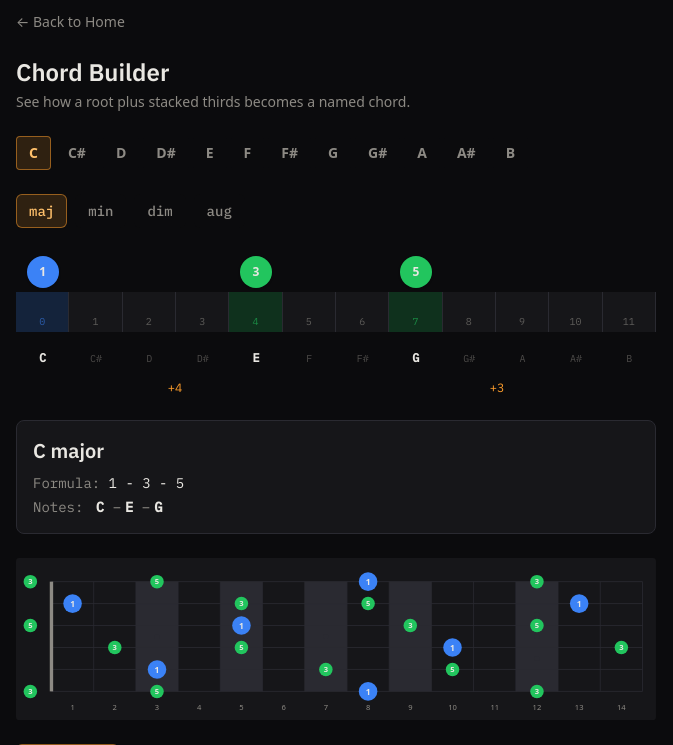
Scenario: ChordBuilder › root selection via RootSelector › clicking G updates chord name to G major
Click the button named "Select G root" at (333, 153), box x1=315 y1=136 x2=351 y2=170
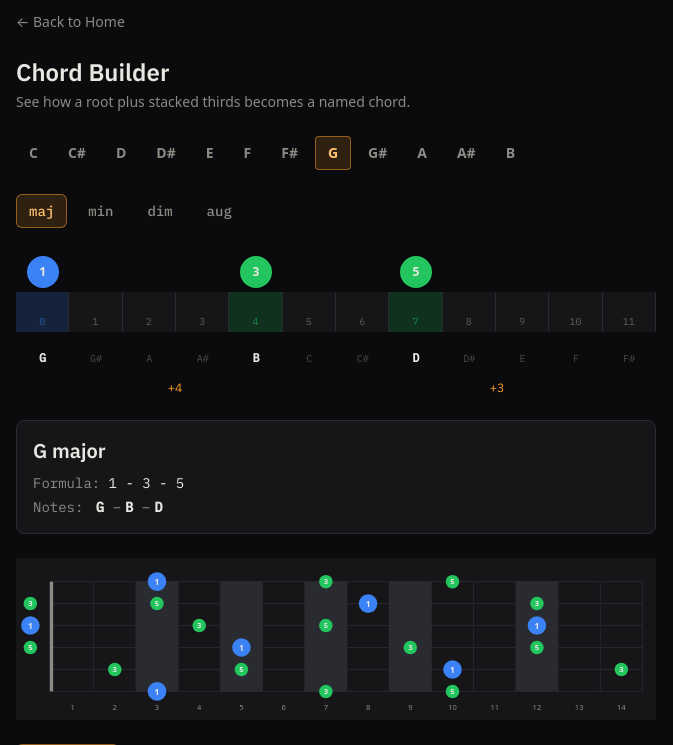
Expected: the text "G major" is shown, x1=33 y1=437 x2=106 y2=464
